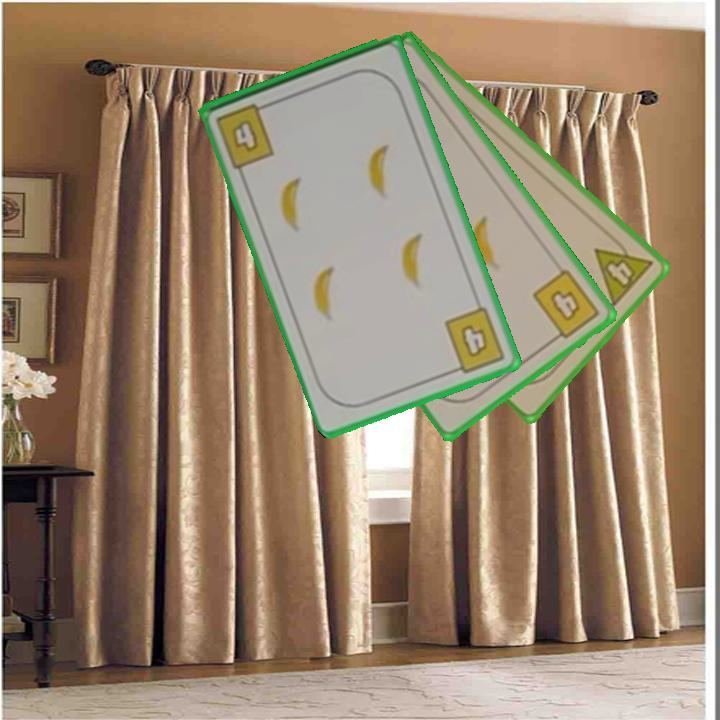4b: (529, 265, 603, 346), (441, 303, 509, 377), (212, 99, 278, 172)
4p: (591, 229, 656, 310)
